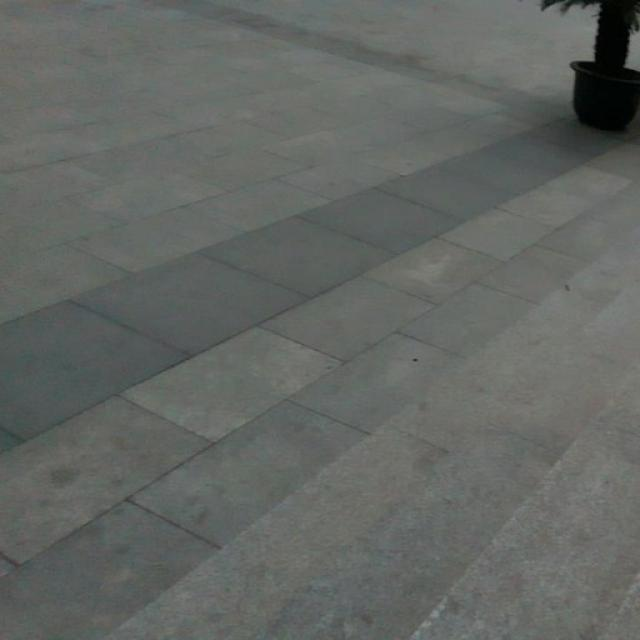stair: (144, 302, 640, 628)
